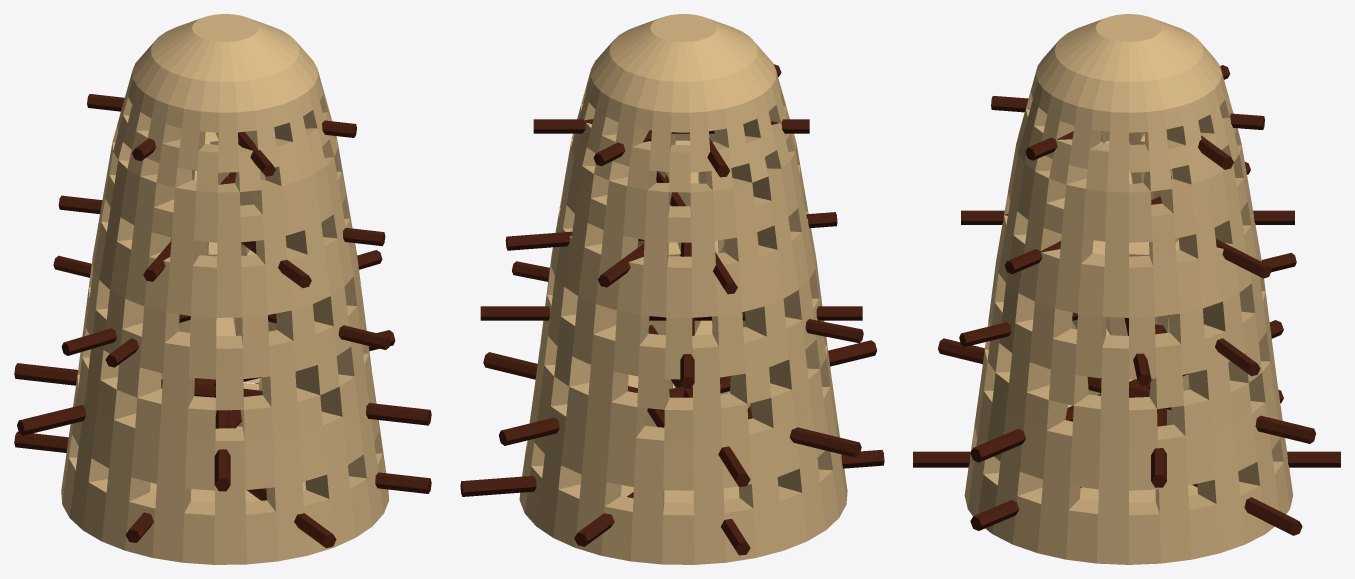
Rendered from beet hamam.fbx.
3 views of the same model, side by side, from view 1: azimuth 30°, elevation 25°; view 2: azimuth 150°, elevation 25°; view 3: azimuth 270°, elevation 25° (orthographic).
Parts seen in each view (by area): view 1: bet hamam, Cylinder.012, Cylinder.011, Cylinder.002, Cylinder.008, Cylinder.013, Cylinder.014, Cylinder.015, Cylinder.007, Cylinder.006, Cylinder.001, Cylinder.009 (+2 smaller); view 2: bet hamam, Cylinder.002, Cylinder.007, Cylinder.003, Cylinder.001, Cylinder.013, Cylinder.004, Cylinder.005, Cylinder.012, Cylinder.011, Cylinder.014, Cylinder.006 (+3 smaller); view 3: bet hamam, Cylinder.007, Cylinder.006, Cylinder.012, Cylinder.009, Cylinder.008, Cylinder.010, Cylinder.001, Cylinder.002, Cylinder.011, Cylinder.004, Cylinder.014 (+3 smaller).
Boxes of the visible parts, x1=… form: bet hamam: x1=61, y1=14, x2=389, y2=564; Cylinder.012: x1=14, y1=363, x2=431, y2=425; Cylinder.011: x1=14, y1=431, x2=431, y2=493; Cylinder.002: x1=17, y1=330, x2=395, y2=435; Cylinder.008: x1=53, y1=255, x2=390, y2=349; Cylinder.013: x1=61, y1=250, x2=382, y2=355; Cylinder.014: x1=58, y1=195, x2=385, y2=246; Cylinder.015: x1=87, y1=94, x2=356, y2=137; Cylinder.007: x1=214, y1=382, x2=230, y2=491; Cylinder.006: x1=247, y1=488, x2=336, y2=548; Cylinder.001: x1=125, y1=383, x2=258, y2=542; Cylinder.009: x1=241, y1=241, x2=311, y2=288; bet hamam: x1=519, y1=14, x2=847, y2=564; Cylinder.002: x1=483, y1=352, x2=861, y2=457; Cylinder.007: x1=499, y1=340, x2=877, y2=445; Cylinder.003: x1=480, y1=306, x2=862, y2=320; Cylinder.001: x1=460, y1=449, x2=884, y2=496; Cylinder.013: x1=512, y1=261, x2=863, y2=342; Cylinder.004: x1=505, y1=212, x2=837, y2=250; Cylinder.005: x1=533, y1=119, x2=809, y2=133; Cylinder.012: x1=648, y1=325, x2=750, y2=486; Cylinder.011: x1=647, y1=409, x2=750, y2=555; Cylinder.014: x1=656, y1=171, x2=737, y2=294; Cylinder.006: x1=574, y1=406, x2=752, y2=546; bet hamam: x1=964, y1=14, x2=1293, y2=564; Cylinder.007: x1=938, y1=338, x2=1315, y2=443; Cylinder.006: x1=913, y1=451, x2=1340, y2=467; Cylinder.012: x1=970, y1=320, x2=1283, y2=462; Cylinder.009: x1=961, y1=210, x2=1294, y2=224; Cylinder.008: x1=959, y1=252, x2=1296, y2=346; Cylinder.010: x1=991, y1=96, x2=1264, y2=129; Cylinder.001: x1=1192, y1=484, x2=1302, y2=535; Cylinder.002: x1=1151, y1=324, x2=1166, y2=487; Cylinder.011: x1=970, y1=389, x2=1283, y2=530; Cylinder.004: x1=1215, y1=239, x2=1271, y2=278; Cylinder.014: x1=1004, y1=162, x2=1250, y2=274.
Size of the model in its own units: 1199 by 1447 by 1199.
